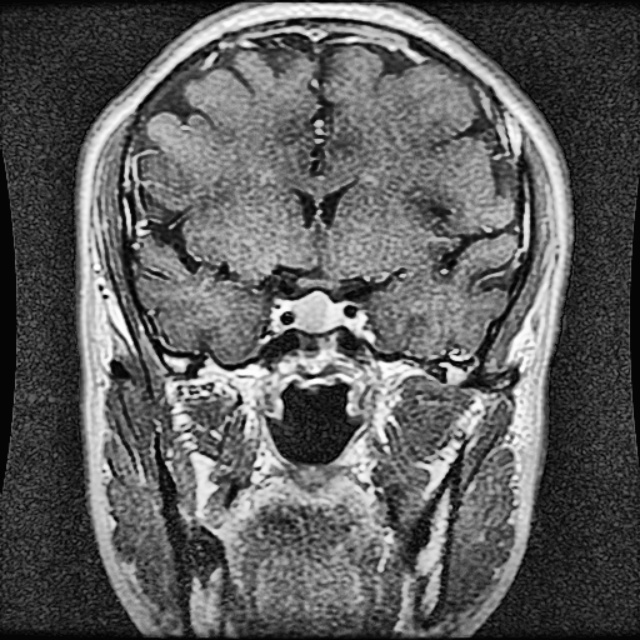Pituitary: (294, 289, 330, 330)
